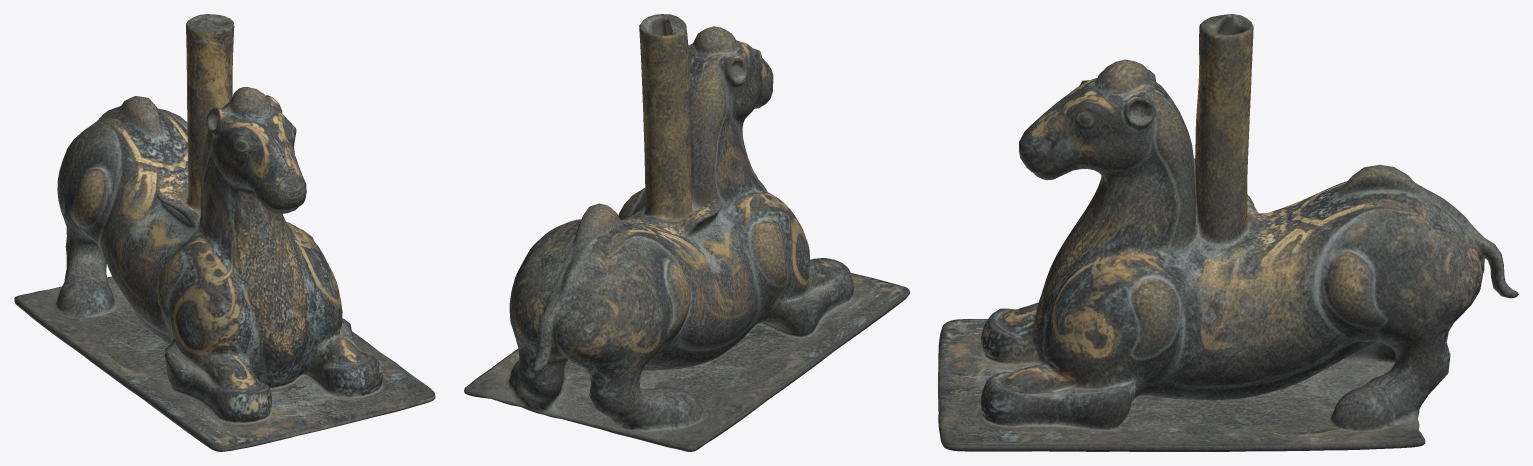
Rendered from 02-han-gilt-horse-stand.glb.
The picture shows the model from 3 angles, left to right: view 1: azimuth 30°, elevation 25°; view 2: azimuth 150°, elevation 25°; view 3: azimuth 270°, elevation 25°; orthographic projection. The views are drawn at different scales.
Parts seen in each view (by area): view 1: Retopo_Mesh_0; view 2: Retopo_Mesh_0; view 3: Retopo_Mesh_0.
Part boxes in pixels (box(x1,y1,x2,y2)): Retopo_Mesh_0: box(14, 14, 435, 451); Retopo_Mesh_0: box(464, 14, 909, 451); Retopo_Mesh_0: box(938, 14, 1518, 451).
Size of the model in its own units: 0.1379 by 0.1893 by 0.2674.
Materials: 1 (1 with a texture image).
